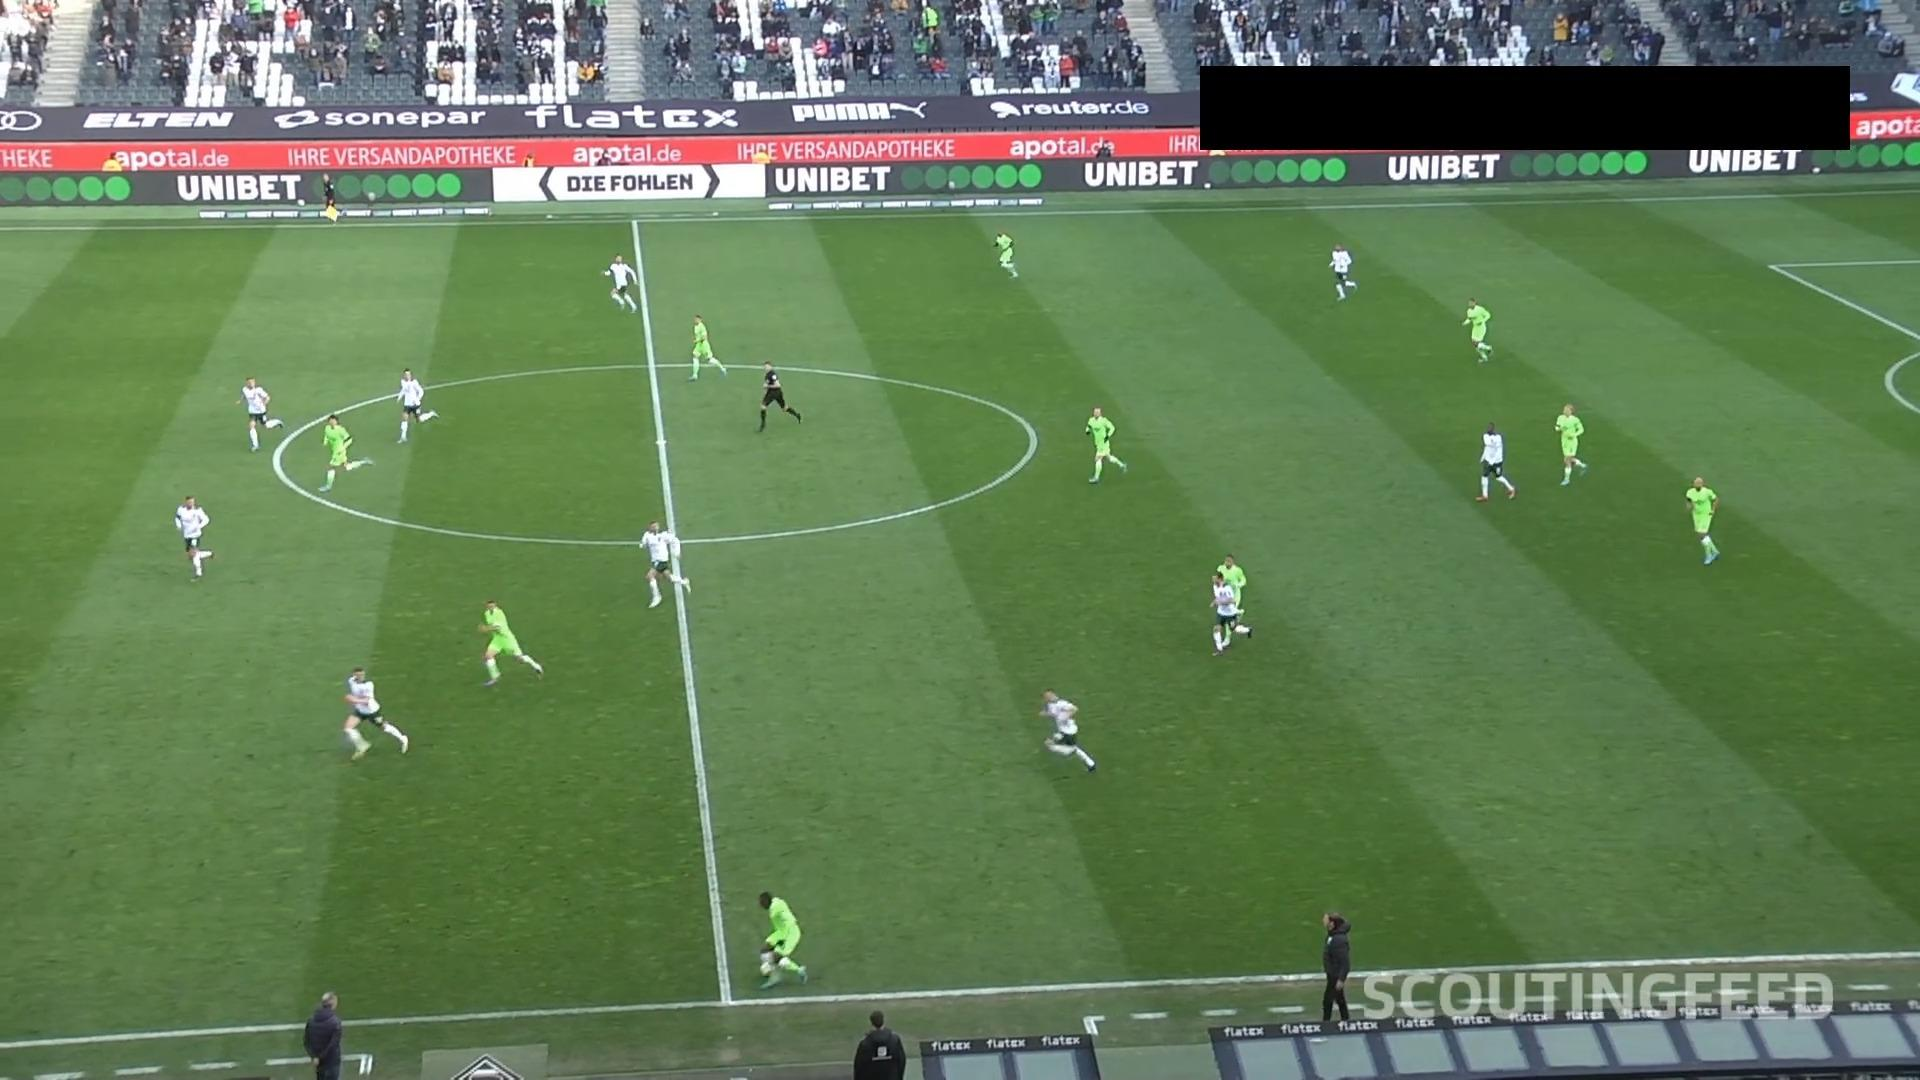ball: (760, 960, 777, 977)
